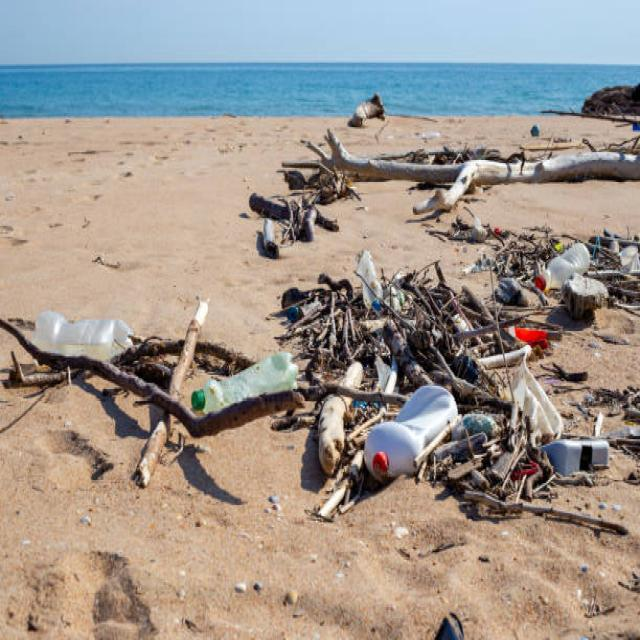metal: (547, 438, 611, 475)
plastic: (34, 309, 133, 362), (360, 409, 420, 480), (540, 251, 586, 282)
